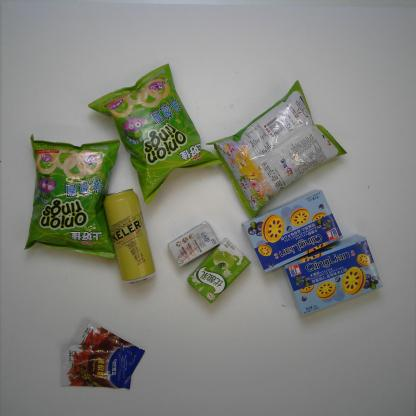Alcohol: (102, 187, 157, 285)
Dessert: (240, 189, 344, 274), (282, 233, 383, 316)
Milk: (186, 237, 252, 304), (167, 220, 220, 268)
Puffed Food: (205, 80, 348, 218), (87, 62, 223, 205), (22, 134, 122, 260)
Seasoner: (66, 317, 146, 377), (59, 342, 133, 392)
